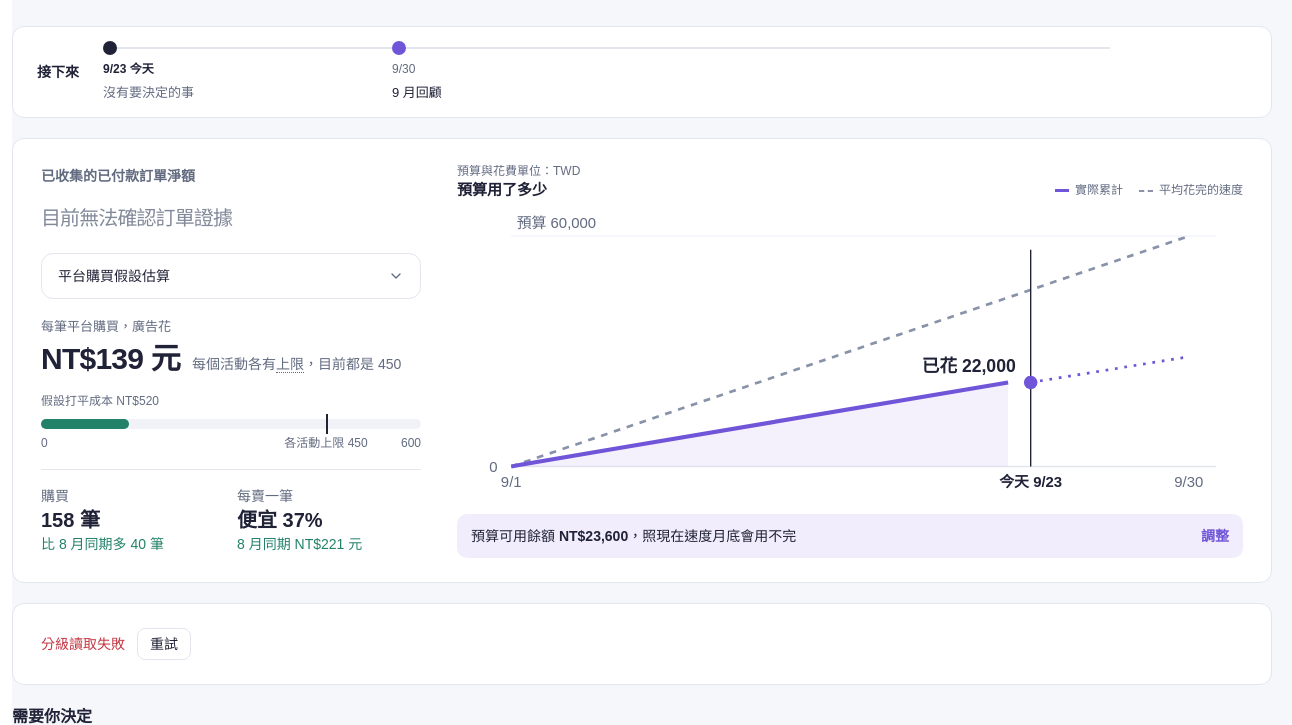
Test: F54 independent execution health › failed overview refresh retains the last blocks and focused budget input, then retries
Click the button "調整". click: (1215,536)
box: [1201, 526, 1229, 546]
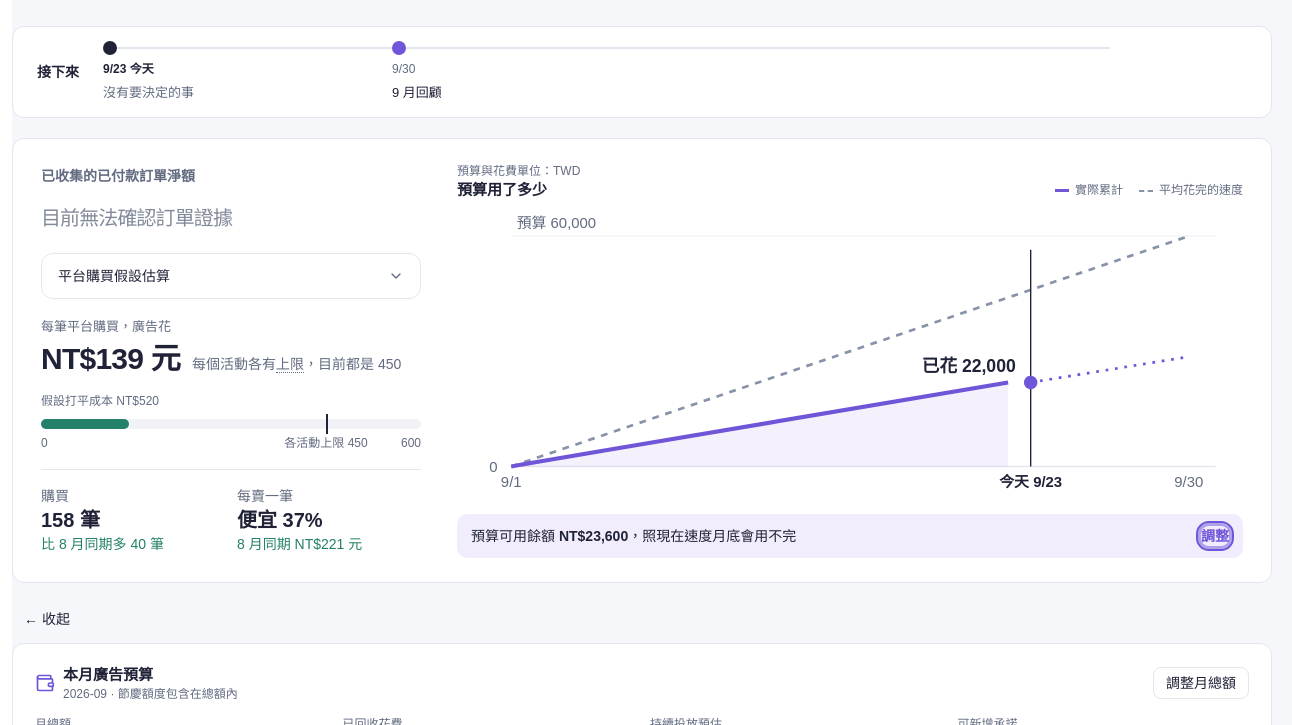
Click the button "調整月總額". click: (1201,683)
box: [1153, 667, 1249, 699]
(page scrolled)
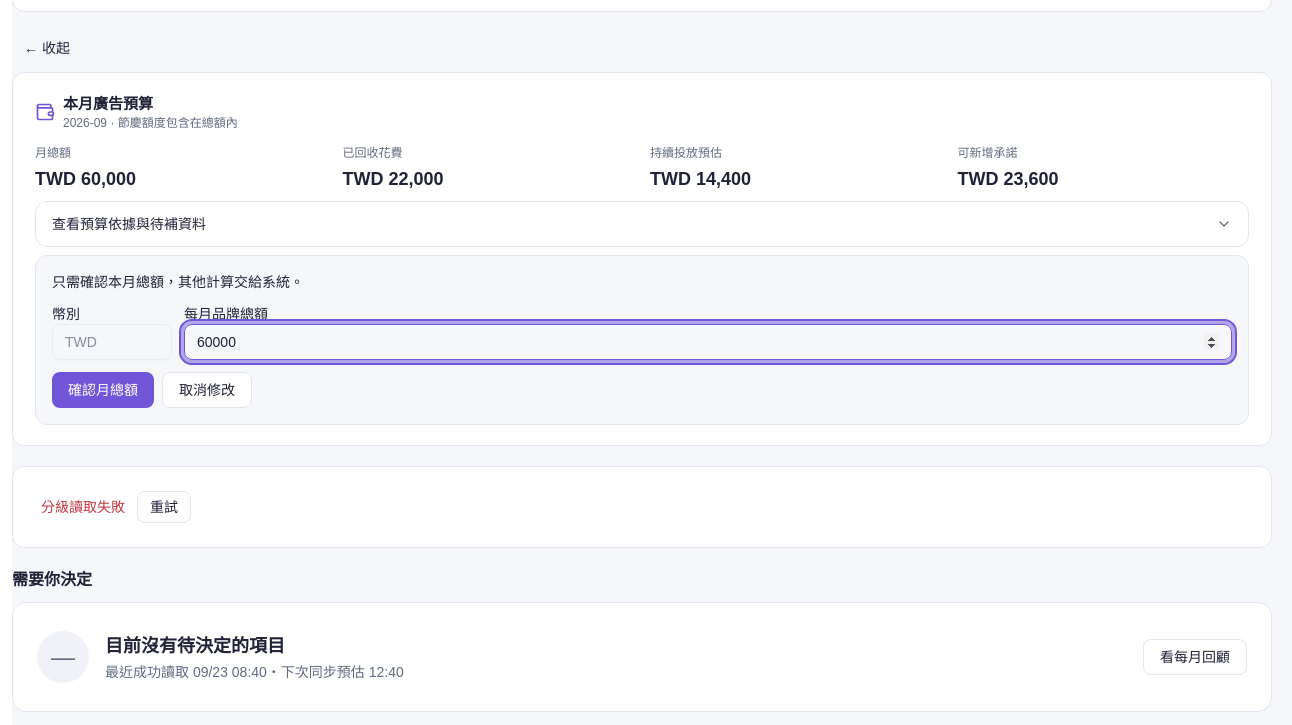
Replace the text in the number field labelled "每月品牌總額" with "55000". click: (708,342)
box: [184, 324, 1232, 360]
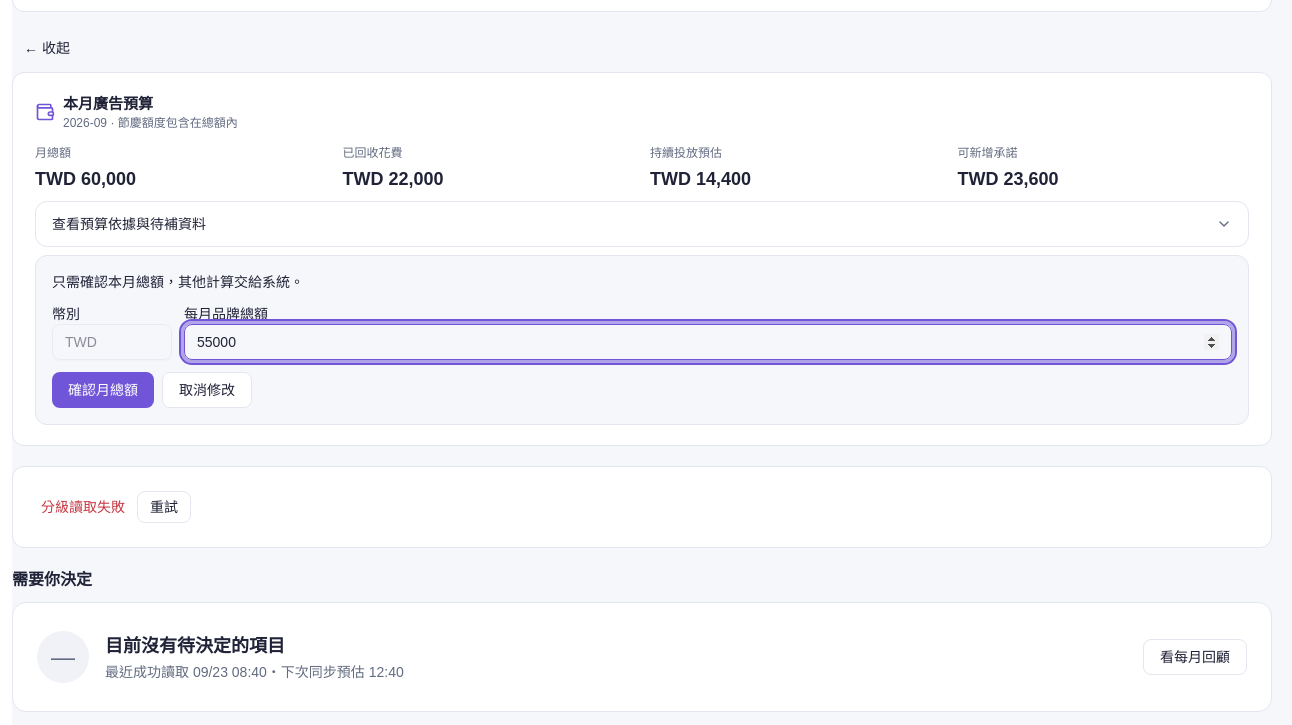
Click the button "重試". click: (164,507)
box: [137, 491, 191, 523]
(page scrolled)
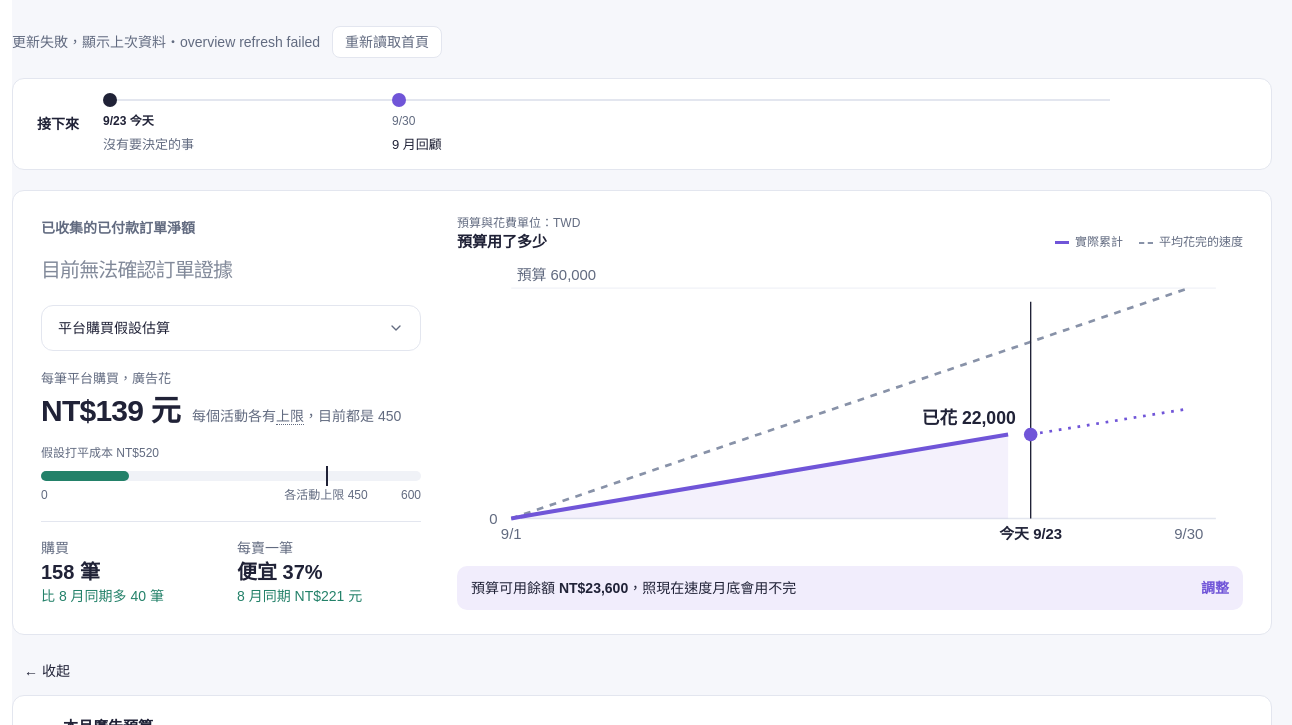
Expected: the text "目前無法確認訂單證據" is shown, [41, 259, 232, 281]
Expected: the text "更新失敗，顯示上次資料・overview refresh failed" is shown, [12, 32, 320, 52]
Expected: the text "下次同步" is gone
Click the button "重新讀取首頁". click: (387,42)
box: [332, 26, 442, 58]
(page scrolled)
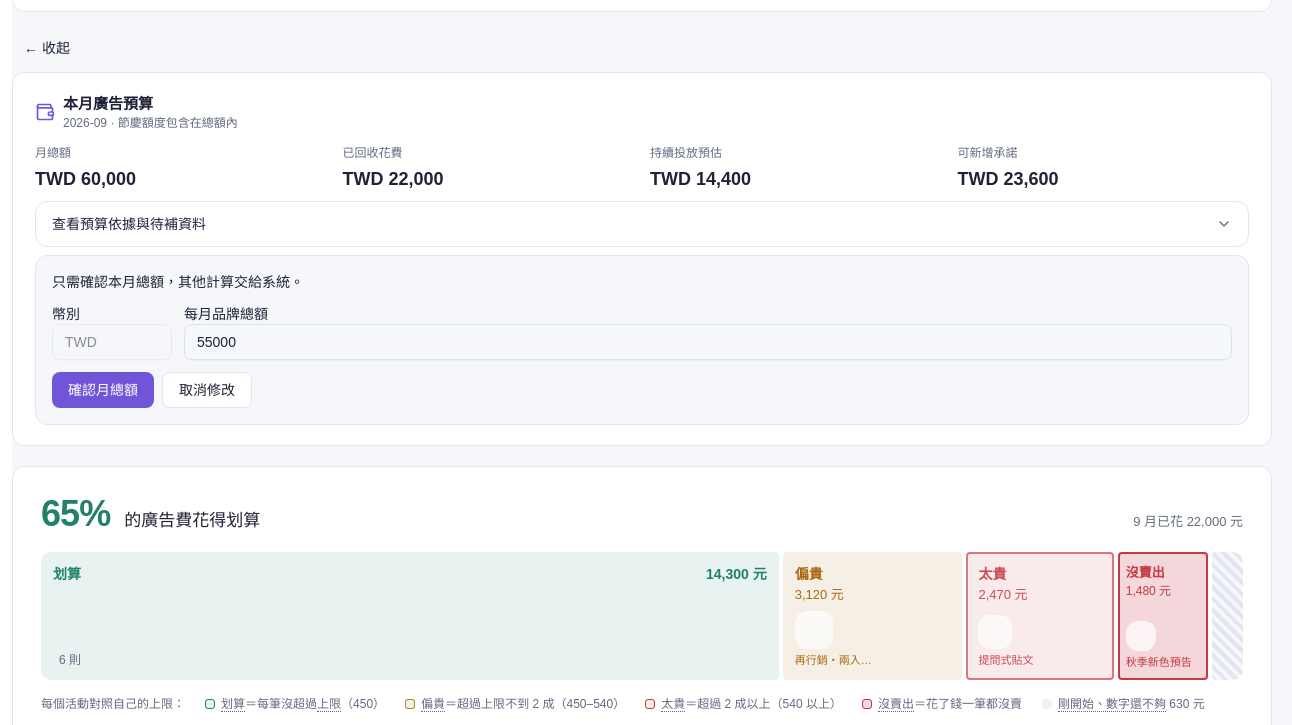
Expected: the text "更新失敗，顯示上次資料" is gone
